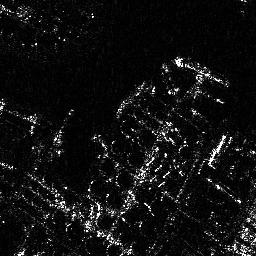ship: (168, 55, 230, 88)
